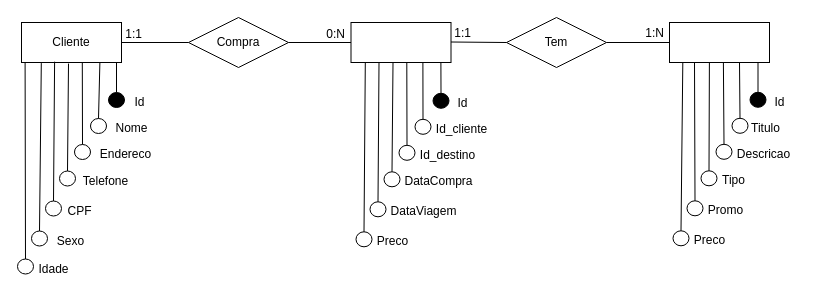
Some shapes in this 815 by 296 pixel diagram are drawn without their labels. The shapes that lost their labels are listed below. From the top down, each one's centre as x and y in pixels, then its label:
At point (400, 42): "Pacote".
At point (719, 42): "Destino".
